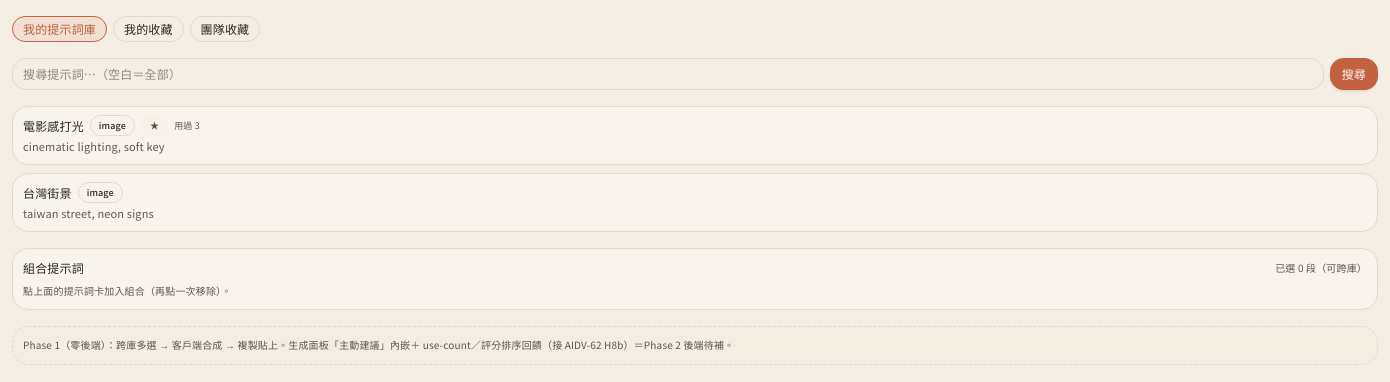
PromptWorkbench（I-8 / AIDV-86 Phase 1） › 切『我的收藏』→ 渲染 promptCollection 項目（跨庫）
Click the button "我的收藏". click: (148, 29)
box: [113, 16, 184, 42]
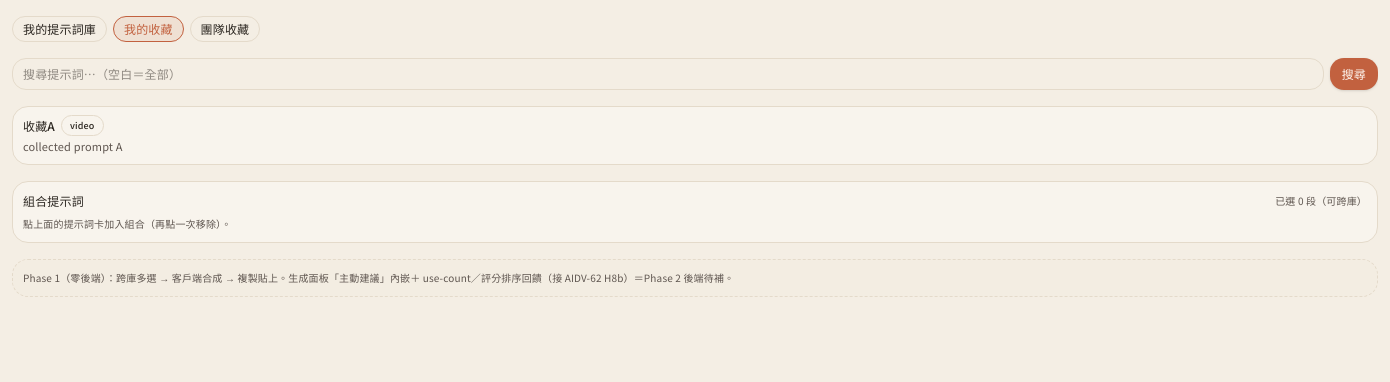
Expected: the text "收藏A" is shown, [23, 118, 55, 134]
